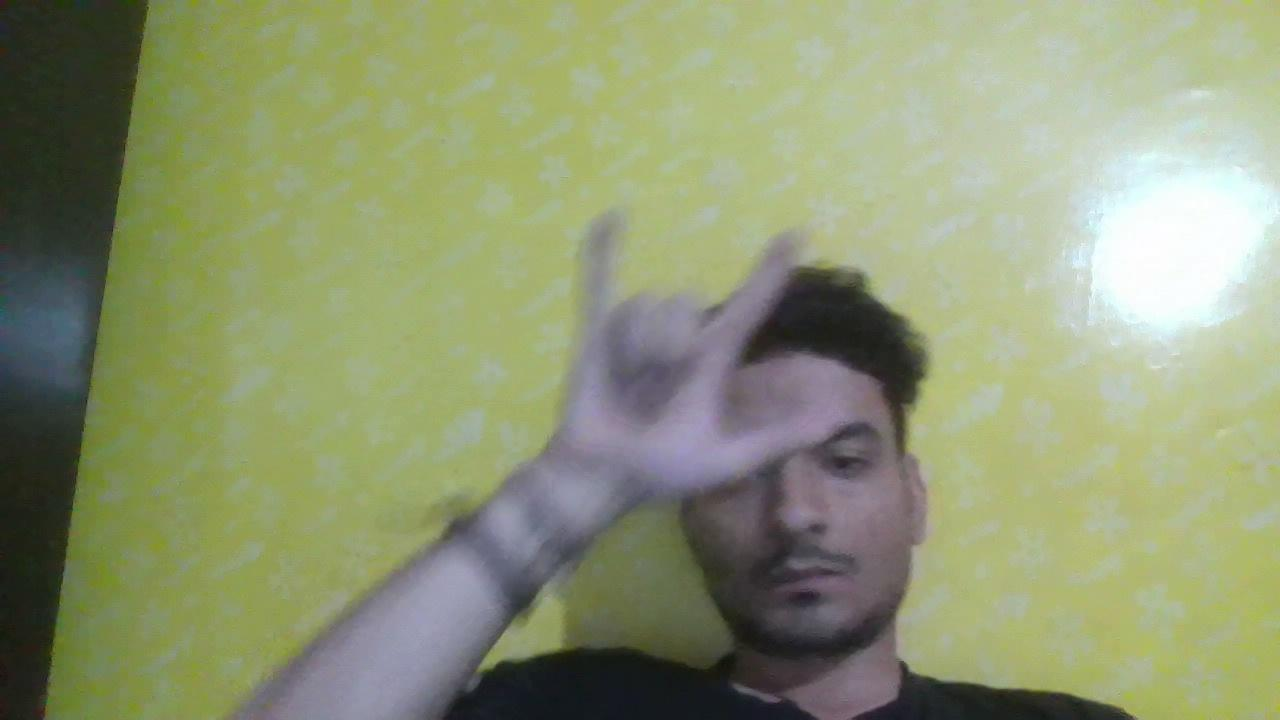Loveyou: (480, 199, 895, 531)
